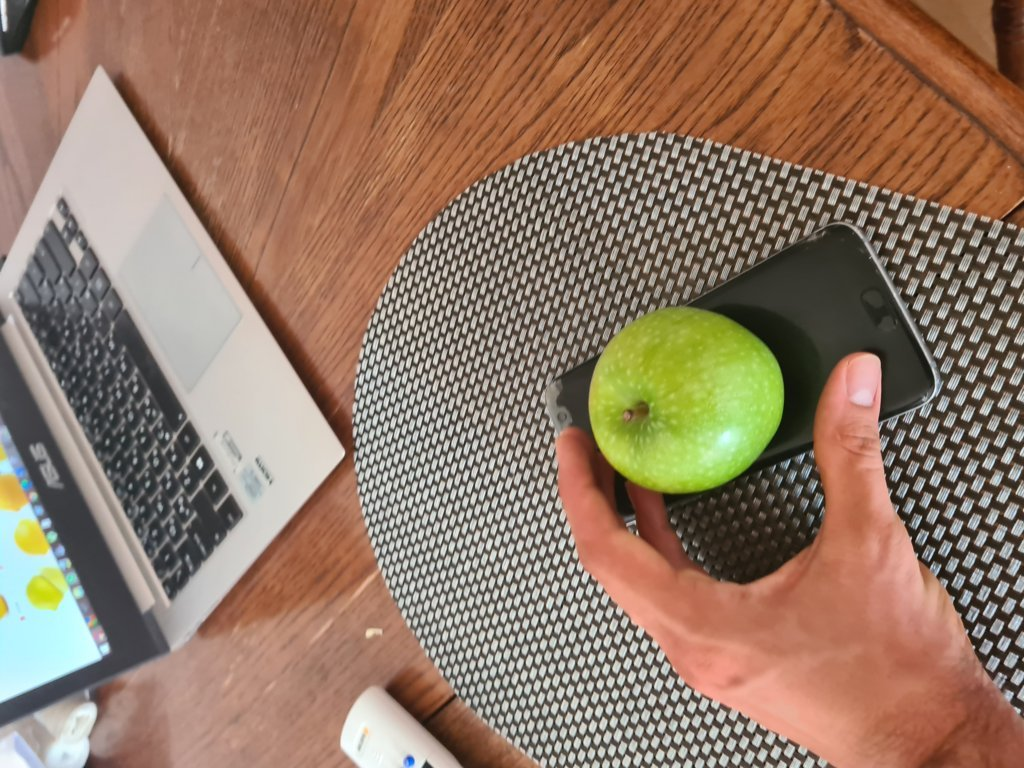apple: (595, 304, 777, 482)
